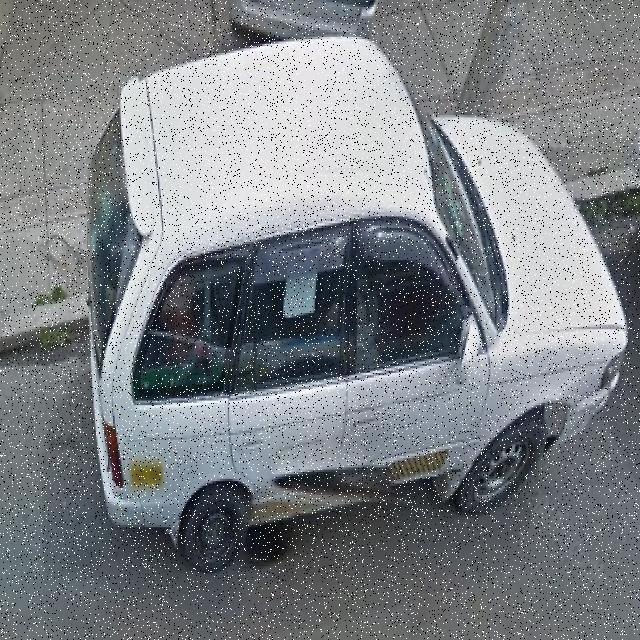cars: (79, 50, 630, 552)
